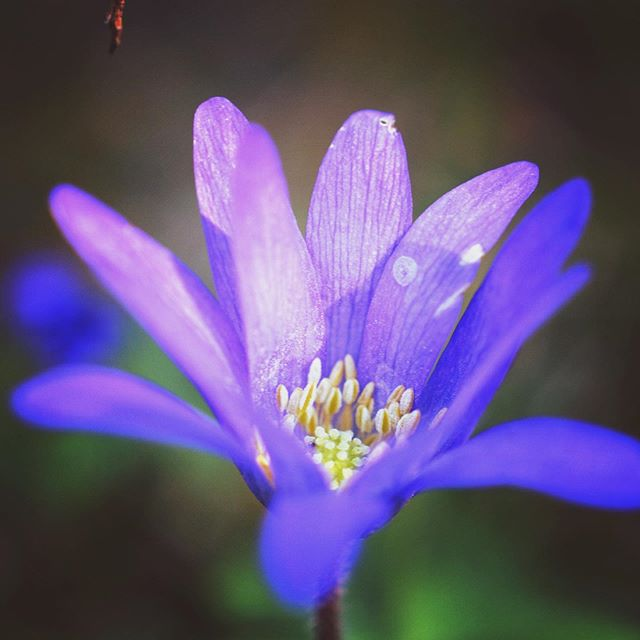flowers: (1, 61, 640, 635)
